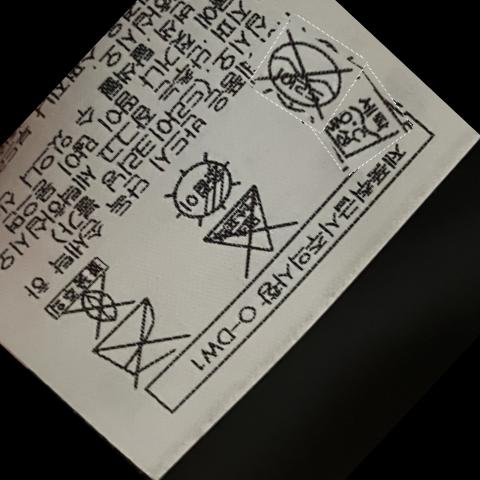DN_bleach: (209, 188, 286, 263)
DN_dry_clean: (261, 35, 345, 115)
DN_iron: (101, 297, 177, 386)
hand_wash: (326, 84, 396, 160)
line_dry_in_shade: (164, 148, 241, 226)
